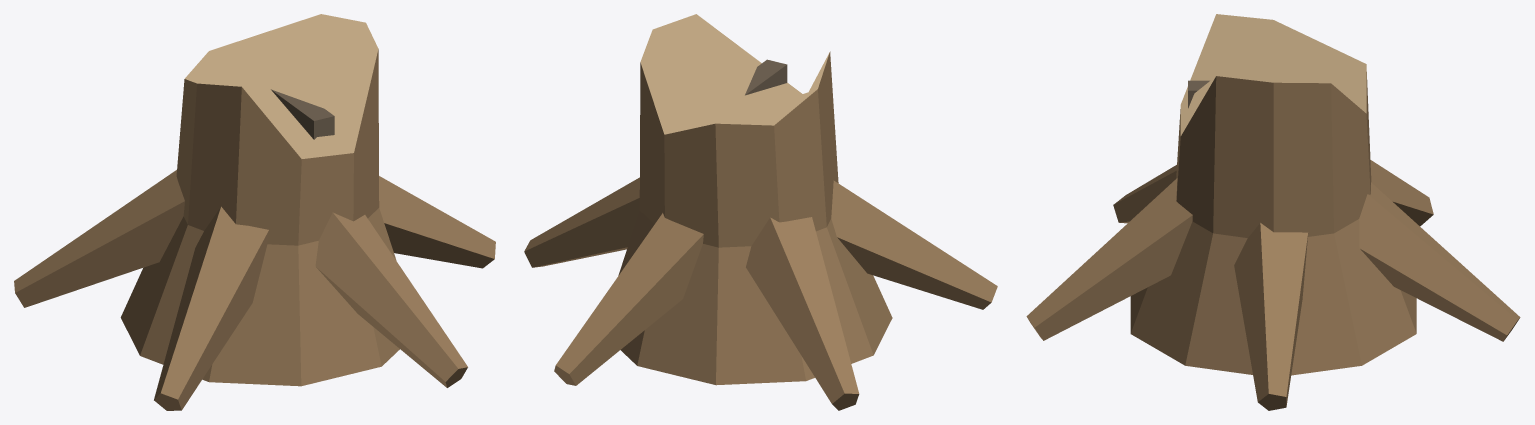
File: stump_02.glb
3 views of the same model, side by side, from view 1: azimuth 30°, elevation 25°; view 2: azimuth 150°, elevation 25°; view 3: azimuth 270°, elevation 25° (orthographic). The views are drawn at different scales.
Parts seen in each view (by area): view 1: Stump_02; view 2: Stump_02; view 3: Stump_02.
Part boxes in pixels (x1,y1,x2,y2): Stump_02: (14,14,495,410); Stump_02: (524,14,997,410); Stump_02: (1026,14,1520,410).
Size of the model in its own units: 1.79 by 1.16 by 1.87.
